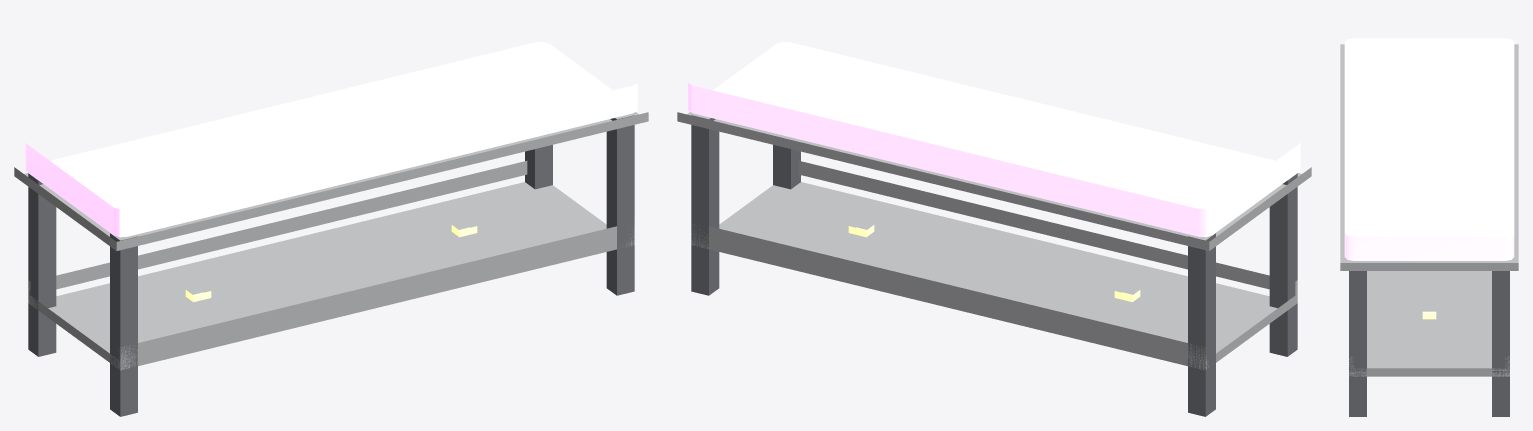
Rendered from iter_05.glb.
3 renders of one model, left to right at view 1: azimuth 30°, elevation 25°; view 2: azimuth 150°, elevation 25°; view 3: azimuth 270°, elevation 25°, orthographic. The views are drawn at different scales.
Parts seen in each view (by area): view 1: Cushion, Lower_Shelf, Legs, Shelf_Lip, Seat_Tray; view 2: Cushion, Lower_Shelf, Legs, Shelf_Lip, Seat_Tray; view 3: Cushion, Lower_Shelf, Legs, Seat_Tray.
Boxes of the visible parts, x1,y1,x2,y2 form: Cushion: (25, 42, 637, 237); Lower_Shelf: (28, 182, 634, 370); Legs: (28, 115, 634, 416); Shelf_Lip: (28, 161, 634, 361); Seat_Tray: (14, 112, 648, 250); Cushion: (688, 42, 1300, 237); Lower_Shelf: (691, 182, 1297, 370); Legs: (691, 115, 1297, 416); Shelf_Lip: (691, 161, 1297, 360); Seat_Tray: (677, 112, 1311, 250); Cushion: (1344, 38, 1514, 260); Lower_Shelf: (1349, 271, 1509, 376); Legs: (1349, 271, 1509, 416); Seat_Tray: (1340, 44, 1518, 270).
Bounding box in the file's own units: 1.2 × 0.45 × 0.4.
